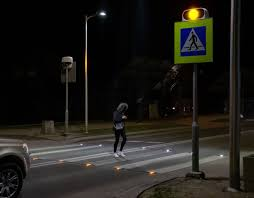pedestrian: (175, 22, 214, 62)
